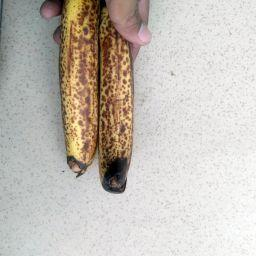banana: (57, 0, 102, 179), (98, 0, 137, 194)
